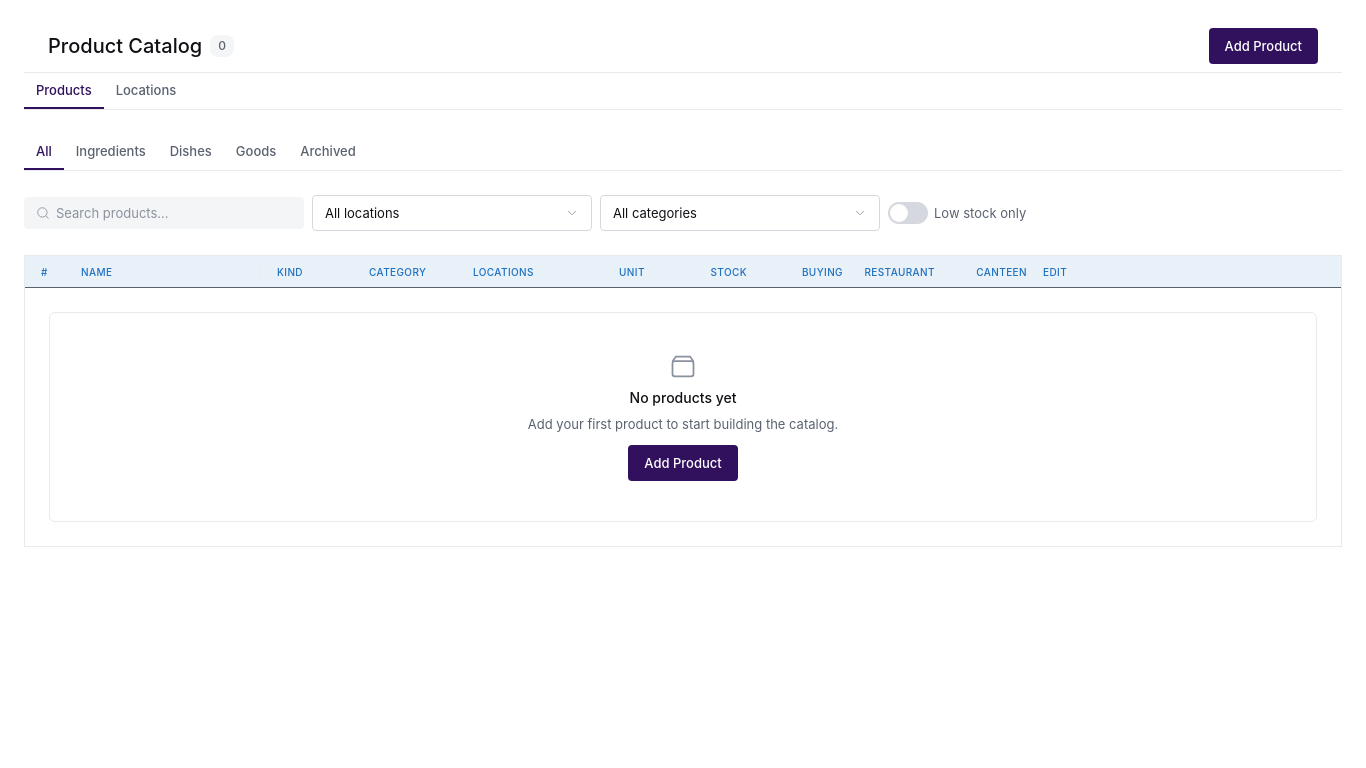
/admin/catalog — kit composition › shows a filtered <EmptyState> with a Clear-filters action when the search matches nothing
Type "zzz" into the search field labelled "Search products" at (174, 213), box x1=56 y1=204 x2=292 y2=222
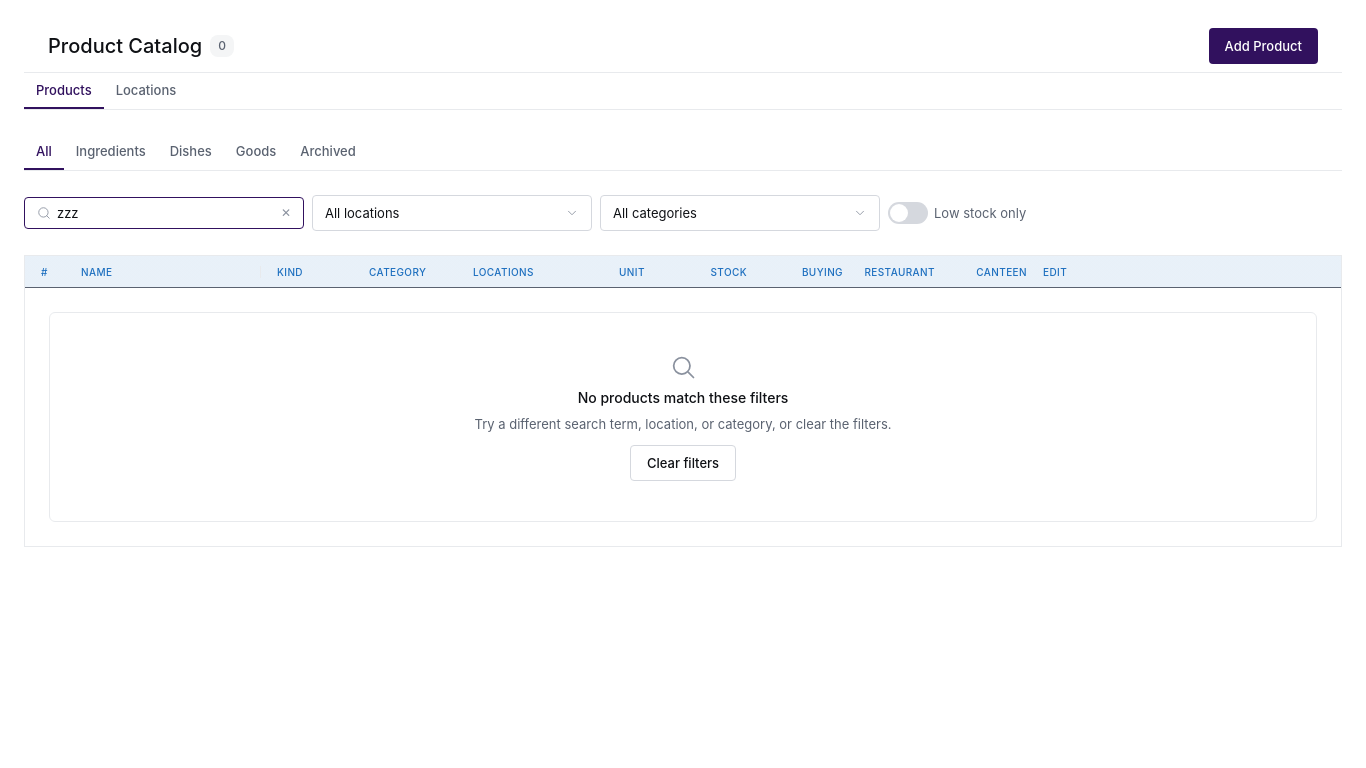
Result: the text "No products match these filters" is shown at x1=578 y1=389 x2=788 y2=407
Result: the button "Clear filters" is shown at x1=630 y1=445 x2=736 y2=481
